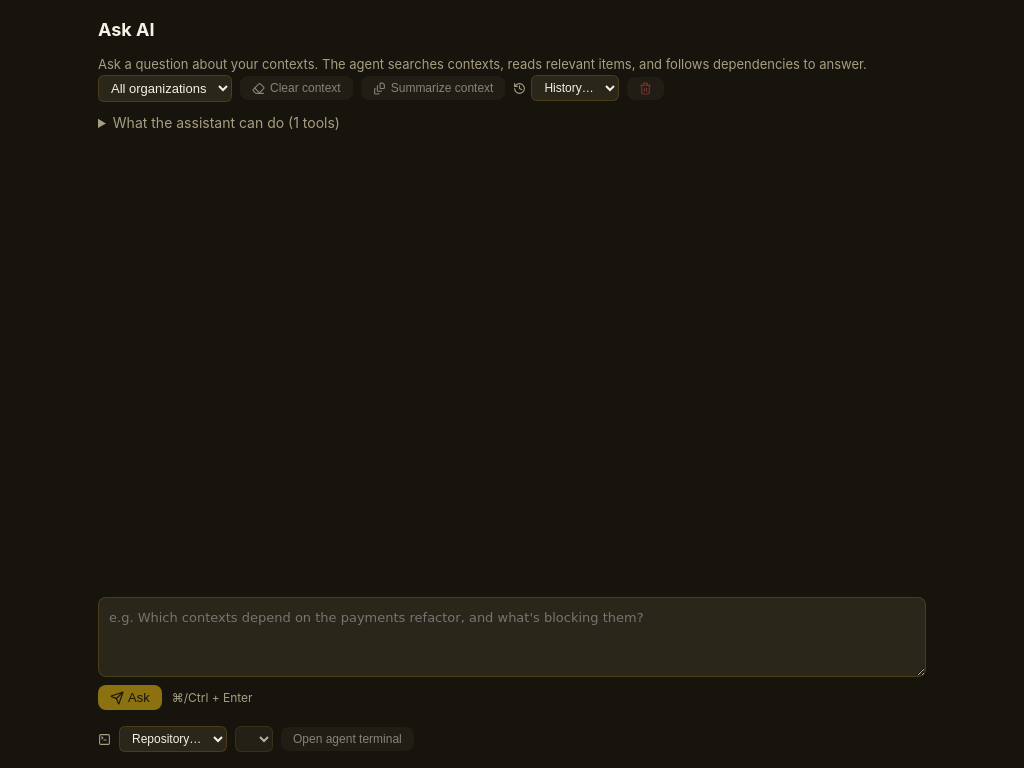
Test: AskAIPage DB history › saves the chat after an answer and reopens a past chat from History
In the text box: (512,637) [98,596,926,677], type "fresh question"
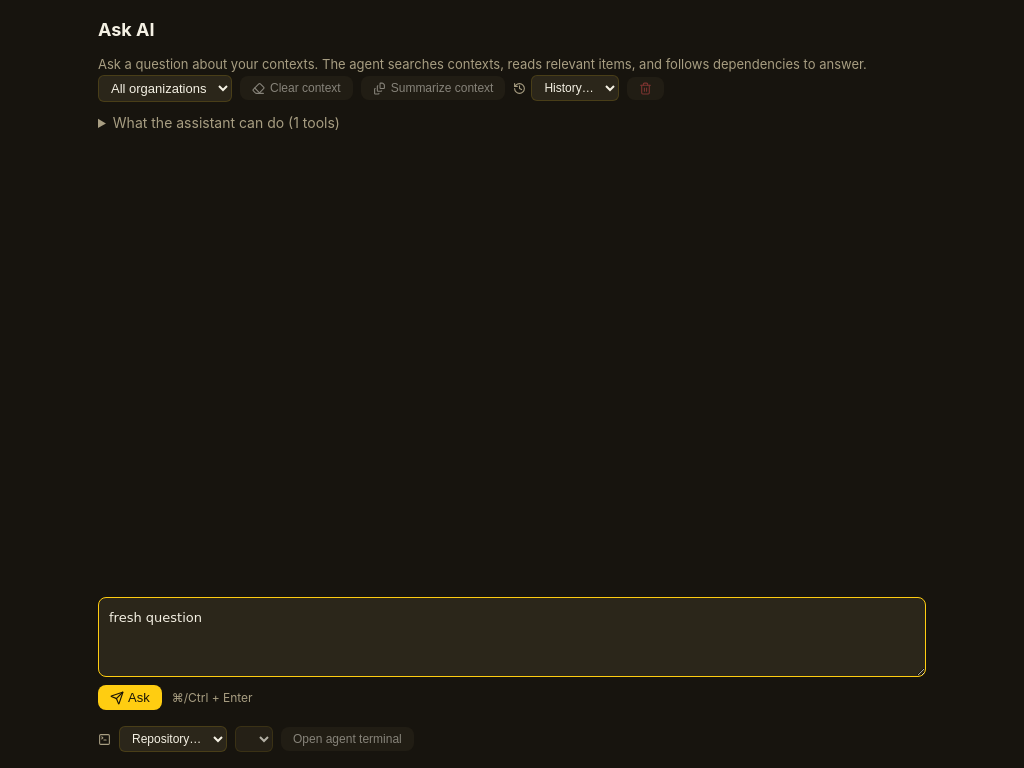
Click the button "Ask": (130,698) [98,685,162,710]
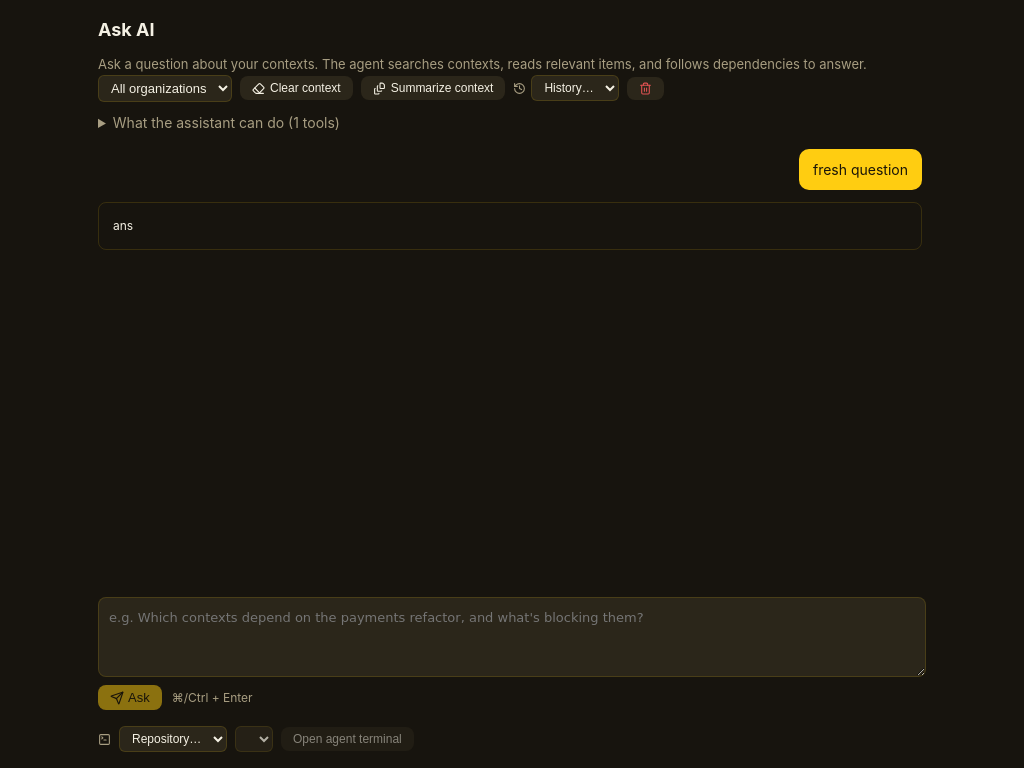
Expected: the text "ans" is shown, [113,218,133,232]
Expected: the text "fresh question" is shown, [799,148,922,190]
Click the dropdown named "Chat history": (575,88) [531,75,619,101]
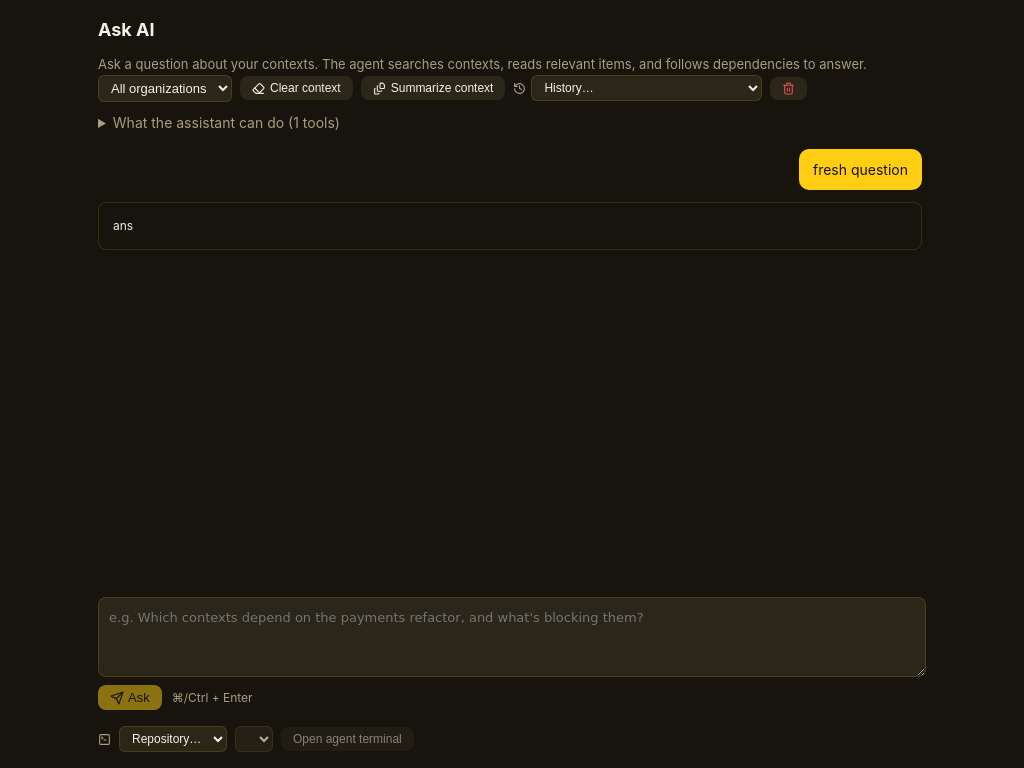
Select "10/1/26, 12:00 AM — older question" in the dropdown named "Chat history": (647,88) [531,75,762,101]
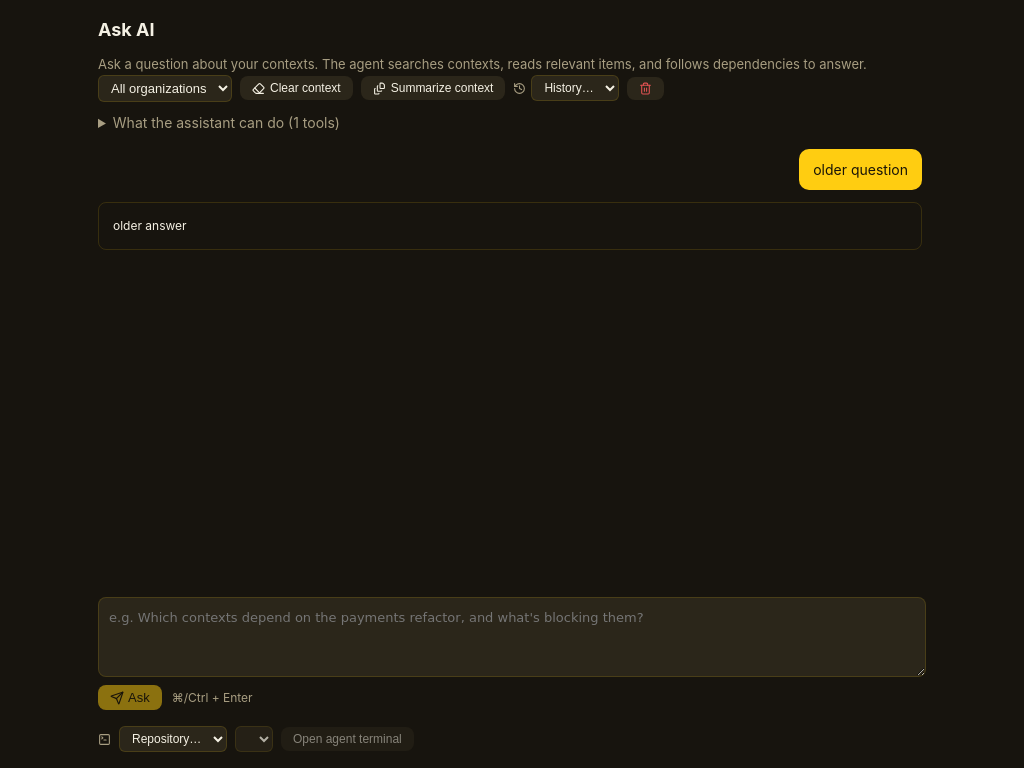
Expected: the text "older answer" is shown, [113,218,187,232]
# Delete removes the open chat and starts an empty one.
Click the button named "delete chat": (646,88) [627,76,664,100]
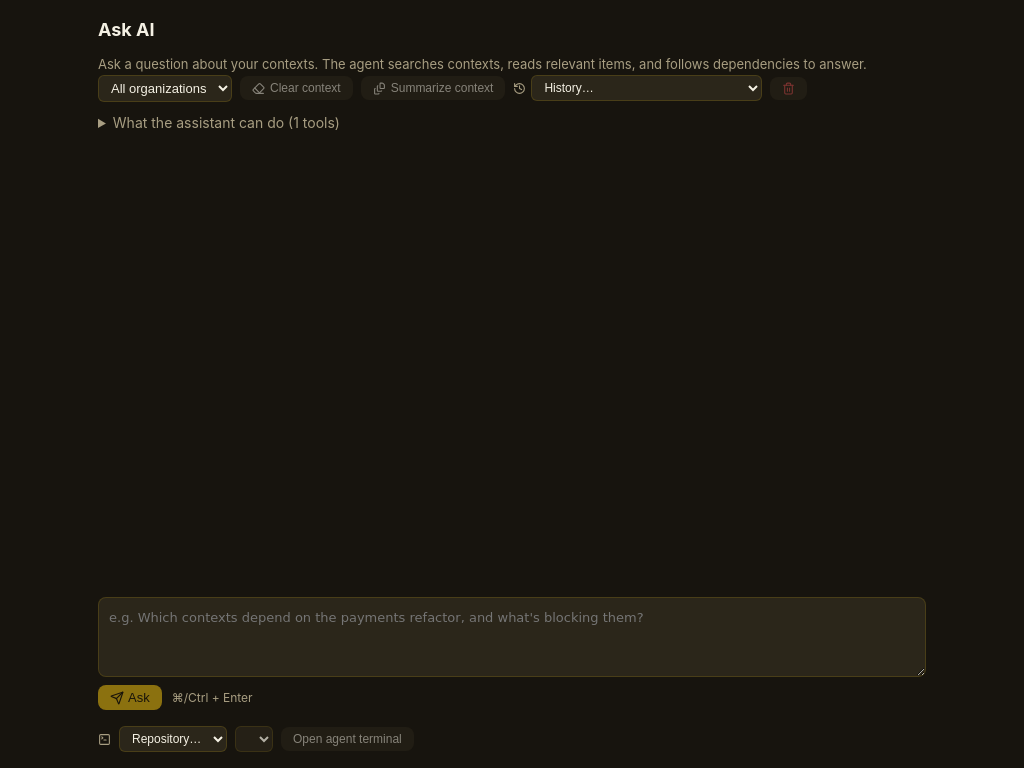
Expected: the text "older answer" is gone
Expected: the button named "delete chat" is disabled, [770,76,807,100]
